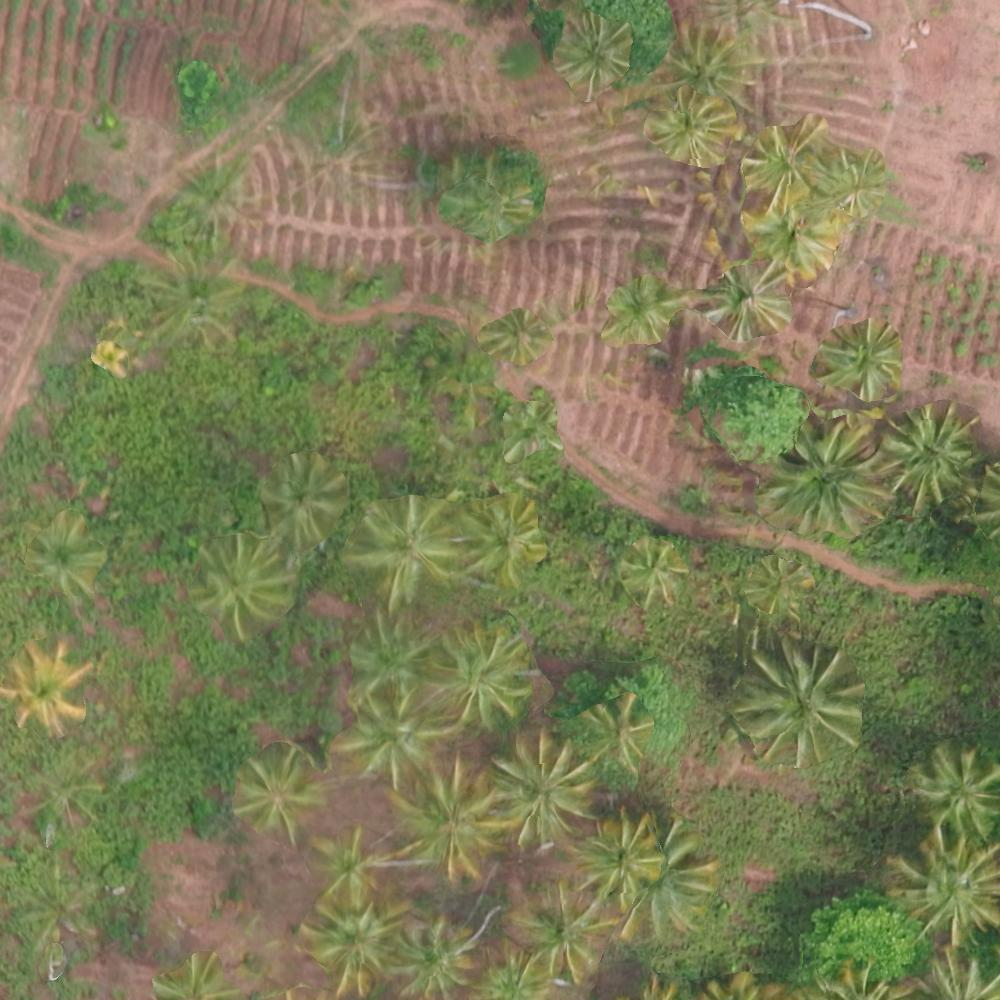Palm: (385, 762, 510, 878), (743, 646, 860, 768), (758, 418, 885, 529), (888, 828, 997, 940), (615, 831, 721, 939), (486, 735, 591, 841), (354, 505, 450, 602), (338, 695, 446, 781), (301, 897, 397, 992), (514, 890, 614, 981), (439, 627, 532, 724), (194, 541, 291, 630), (888, 408, 979, 501), (3, 642, 90, 739), (454, 494, 539, 584), (916, 744, 1000, 834), (349, 619, 430, 711), (387, 915, 472, 999), (662, 28, 751, 106), (581, 815, 663, 897), (258, 458, 340, 539), (234, 756, 317, 834), (21, 518, 98, 601), (650, 91, 734, 166), (310, 826, 388, 902), (829, 317, 905, 393), (557, 16, 633, 92), (758, 201, 835, 275), (623, 534, 693, 614), (711, 264, 785, 336), (579, 695, 652, 767), (748, 126, 817, 196), (740, 556, 806, 615), (606, 278, 670, 338), (829, 154, 890, 210), (490, 309, 547, 361)
